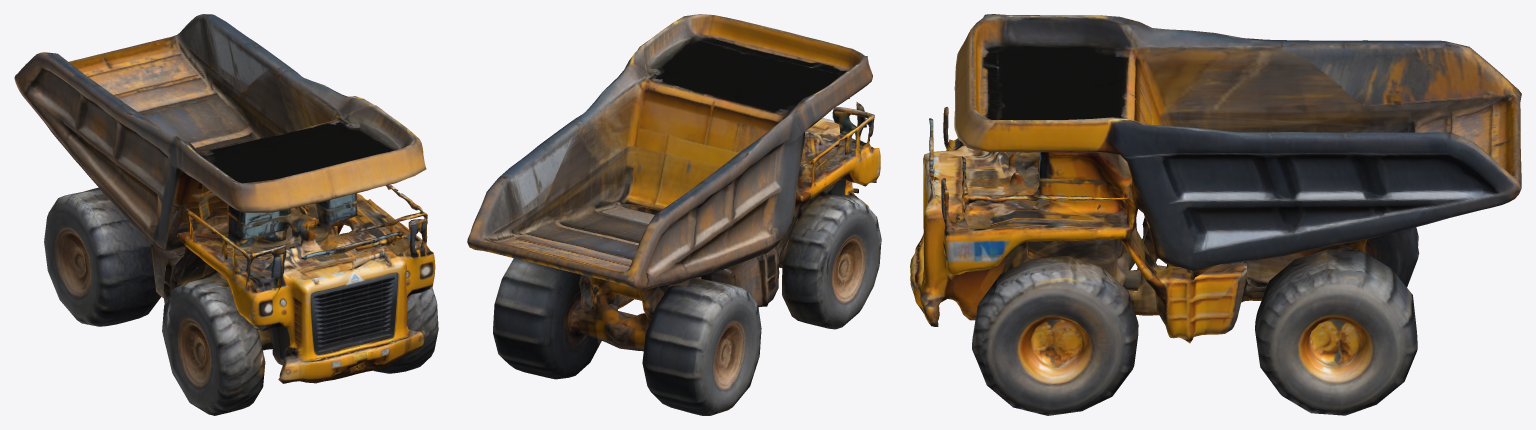
Rendered from truck.glb.
3 views of the same model, side by side, from view 1: azimuth 30°, elevation 25°; view 2: azimuth 150°, elevation 25°; view 3: azimuth 270°, elevation 25° (orthographic). The views are drawn at different scales.
Bounding box in the file's own units: 0.957 × 1.05 × 1.99.
1 material, 1 textured.
